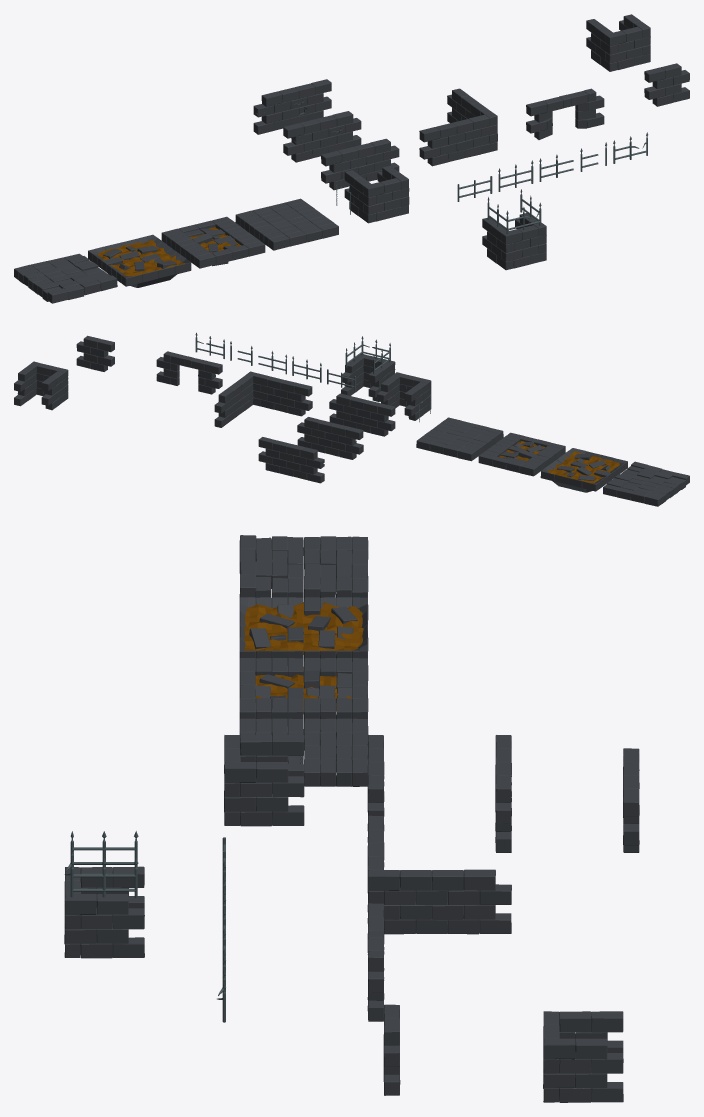
Rendered from ModularBrickEnvironmentV2.fbx.
The picture shows the model from 3 angles, top to bottom: view 1: azimuth 30°, elevation 25°; view 2: azimuth 150°, elevation 25°; view 3: azimuth 270°, elevation 25°; orthographic projection. The views are drawn at different scales.
Parts seen in each view (by area): view 1: Cube.001, Cube.015, Cube.040, Cube.003, Cube.049, Cube.008, Cube.022, Cube.007, Cube.004, Cube.021, Cube, Cube.002 (+1 smaller); view 2: Cube.001, Cube.015, Cube.049, Cube.040, Cube.003, Cube.022, Cube.021, Cube.004, Cube, Cube.008, Cube.007, Cube.002 (+1 smaller); view 3: Cube.001, Cube.008, Cube.049, Cube.015, Cube.040, Cube.004, Cube.007, Cube.003, Cube.021, Cube.002, Cube.022, Cube.005 (+1 smaller).
Boxes of the visible parts, x1,y1,x2,y2 form: Cube.001: [419, 88, 497, 166]; Cube.015: [88, 234, 191, 287]; Cube.040: [161, 216, 265, 268]; Cube.003: [235, 198, 338, 250]; Cube.049: [14, 253, 117, 303]; Cube.008: [482, 189, 546, 270]; Cube.022: [253, 79, 331, 134]; Cube.007: [344, 166, 409, 223]; Cube.004: [586, 14, 650, 71]; Cube.021: [283, 111, 361, 162]; Cube: [321, 138, 399, 190]; Cube.002: [526, 88, 604, 139]; Cube.001: [214, 371, 312, 427]; Cube.015: [540, 448, 627, 492]; Cube.049: [603, 461, 689, 506]; Cube.040: [478, 432, 565, 476]; Cube.003: [416, 417, 503, 461]; Cube.022: [258, 437, 324, 483]; Cube.021: [297, 417, 363, 459]; Cube.004: [14, 361, 68, 410]; Cube: [329, 393, 395, 436]; Cube.008: [341, 336, 395, 401]; Cube.007: [377, 372, 431, 420]; Cube.002: [156, 351, 222, 394]; Cube.001: [367, 815, 511, 934]; Cube.008: [64, 831, 144, 958]; Cube.049: [239, 535, 368, 598]; Cube.015: [239, 597, 368, 659]; Cube.040: [239, 658, 368, 720]; Cube.004: [543, 1011, 623, 1102]; Cube.007: [224, 734, 304, 826]; Cube.003: [239, 718, 368, 786]; Cube.021: [495, 735, 511, 852]; Cube.002: [367, 903, 384, 1021]; Cube.022: [623, 748, 639, 852]; Cube.005: [383, 1004, 400, 1095].
Size of the model in its own units: 8406 by 804 by 3604.
